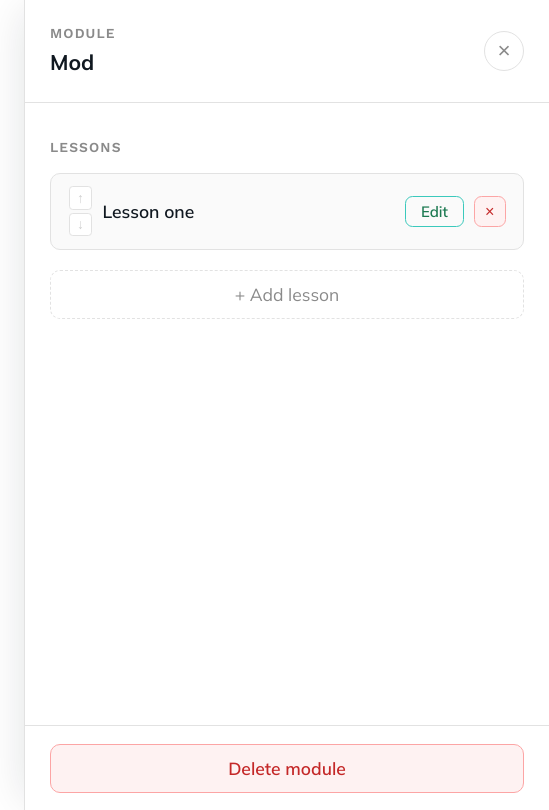
ModulePanel lesson delete confirmation › does not delete on the first click
This screenshot has width=549, height=810.
Click the button titled "Delete lesson" in the row of "Lesson one". click: {"x": 490, "y": 211}
box: [474,196,506,227]
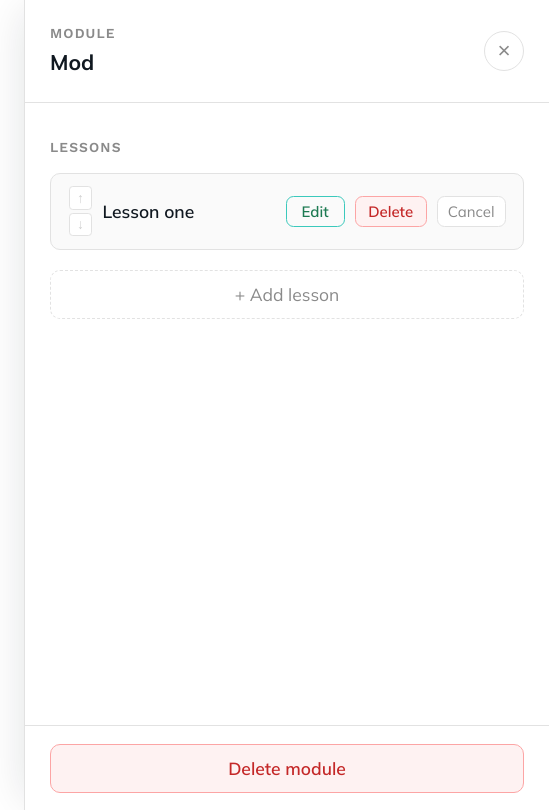
Now the button "Delete" is shown, box [355,196,427,227]
